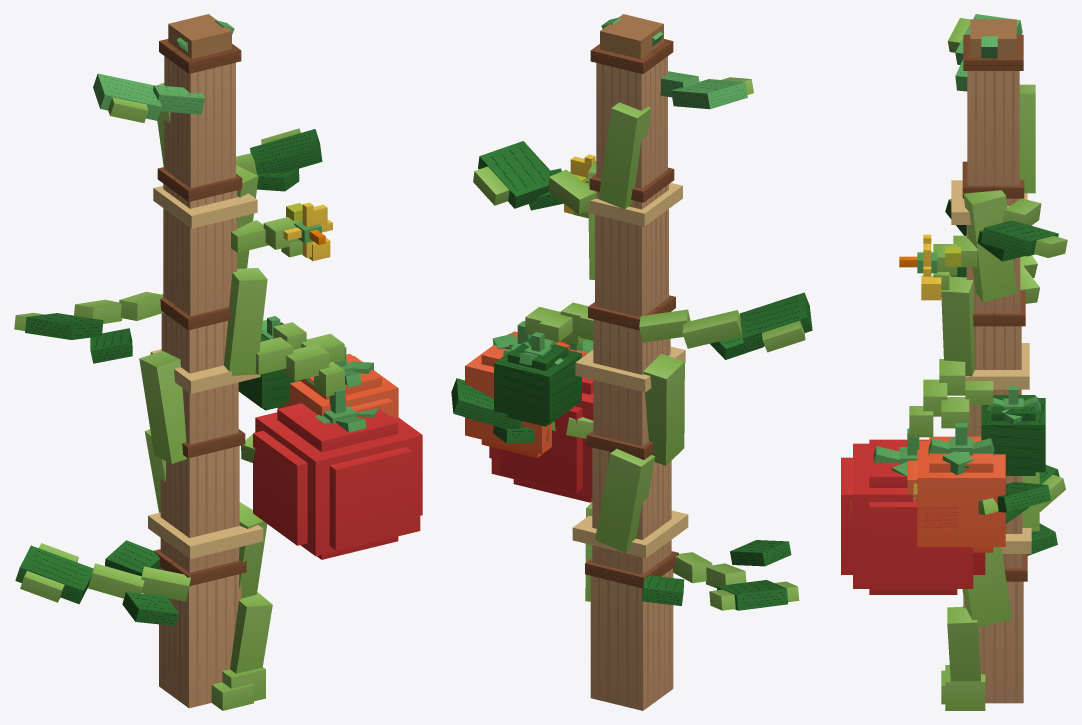
The model's file is ca_chua.glb.
The picture shows the model from 3 angles, left to right: view 1: azimuth 30°, elevation 25°; view 2: azimuth 150°, elevation 25°; view 3: azimuth 270°, elevation 25°; orthographic projection.
Visible parts, largest first — view 1: bamboo_seg_1_base, bamboo_seg_5_top, ripe_big_fruit_belly_north, bamboo_seg_2_mid_lower, bamboo_seg_4_mid_upper, ripe_big_fruit_center_core, bamboo_seg_3_center, ripe_big_fruit_belly_west, stem_vine_seg_4_wrap_west, stem_vine_seg_5_truss_fork, ripe_big_fruit_top_dome, stem_vine_seg_1_lower (+38 smaller); view 2: bamboo_seg_1_base, bamboo_seg_4_mid_upper, bamboo_seg_3_center, bamboo_seg_5_top, green_tomato_fruit_core, bamboo_seg_2_mid_lower, stem_vine_seg_3_wrap_north, stem_vine_seg_4_wrap_west, stem_vine_seg_7_upper_wrap, ripe_big_fruit_belly_south, leaf_frond_4_terminal_blade, half_ripe_fruit_core (+28 smaller); view 3: half_ripe_fruit_core, ripe_big_fruit_belly_east, bamboo_seg_5_top, bamboo_seg_1_base, ripe_big_fruit_center_core, stem_vine_seg_6_flower_fork, green_tomato_fruit_core, stem_vine_seg_5_truss_fork, bamboo_seg_3_center, stem_vine_seg_2_wrap_east, stem_vine_seg_1_lower, stem_vine_seg_7_upper_wrap (+38 smaller).
Boxes of the visible parts, bbox=[...] form: bamboo_seg_1_base: bbox=[159, 568, 241, 708]; bamboo_seg_5_top: bbox=[164, 56, 235, 188]; ripe_big_fruit_belly_north: bbox=[329, 447, 412, 549]; bamboo_seg_2_mid_lower: bbox=[160, 446, 239, 572]; bamboo_seg_4_mid_upper: bbox=[163, 184, 236, 316]; ripe_big_fruit_center_core: bbox=[255, 412, 420, 556]; bamboo_seg_3_center: bbox=[161, 312, 238, 444]; ripe_big_fruit_belly_west: bbox=[253, 430, 307, 545]; stem_vine_seg_4_wrap_west: bbox=[139, 351, 186, 463]; stem_vine_seg_5_truss_fork: bbox=[224, 268, 267, 375]; ripe_big_fruit_top_dome: bbox=[277, 403, 398, 452]; stem_vine_seg_1_lower: bbox=[230, 592, 272, 673]; bamboo_seg_1_base: bbox=[590, 568, 673, 710]; bamboo_seg_4_mid_upper: bbox=[595, 184, 668, 316]; bamboo_seg_3_center: bbox=[593, 319, 670, 446]; bamboo_seg_5_top: bbox=[596, 56, 667, 188]; green_tomato_fruit_core: bbox=[494, 340, 581, 424]; bamboo_seg_2_mid_lower: bbox=[592, 447, 671, 574]; stem_vine_seg_3_wrap_north: bbox=[595, 449, 655, 552]; stem_vine_seg_4_wrap_west: bbox=[643, 353, 684, 465]; stem_vine_seg_7_upper_wrap: bbox=[598, 102, 651, 209]; ripe_big_fruit_belly_south: bbox=[499, 406, 582, 492]; leaf_frond_4_terminal_blade: bbox=[478, 141, 553, 208]; half_ripe_fruit_core: bbox=[465, 333, 586, 453]; half_ripe_fruit_core: bbox=[917, 440, 1005, 546]; ripe_big_fruit_belly_east: bbox=[869, 502, 957, 586]; bamboo_seg_5_top: bbox=[967, 71, 1019, 185]; bamboo_seg_1_base: bbox=[963, 581, 1023, 703]; ripe_big_fruit_center_core: bbox=[853, 443, 973, 588]; stem_vine_seg_6_flower_fork: bbox=[963, 190, 1016, 302]; green_tomato_fruit_core: bbox=[981, 398, 1045, 472]; stem_vine_seg_5_truss_fork: bbox=[941, 276, 974, 376]; bamboo_seg_3_center: bbox=[967, 326, 1021, 436]; stem_vine_seg_2_wrap_east: bbox=[962, 547, 1012, 627]; stem_vine_seg_1_lower: bbox=[947, 606, 980, 681]; stem_vine_seg_7_upper_wrap: bbox=[1019, 84, 1035, 193].
Bounding box in the file's own units: 0.6325 × 1.14 × 0.3534.
Materials: 1 (1 with a texture image).
